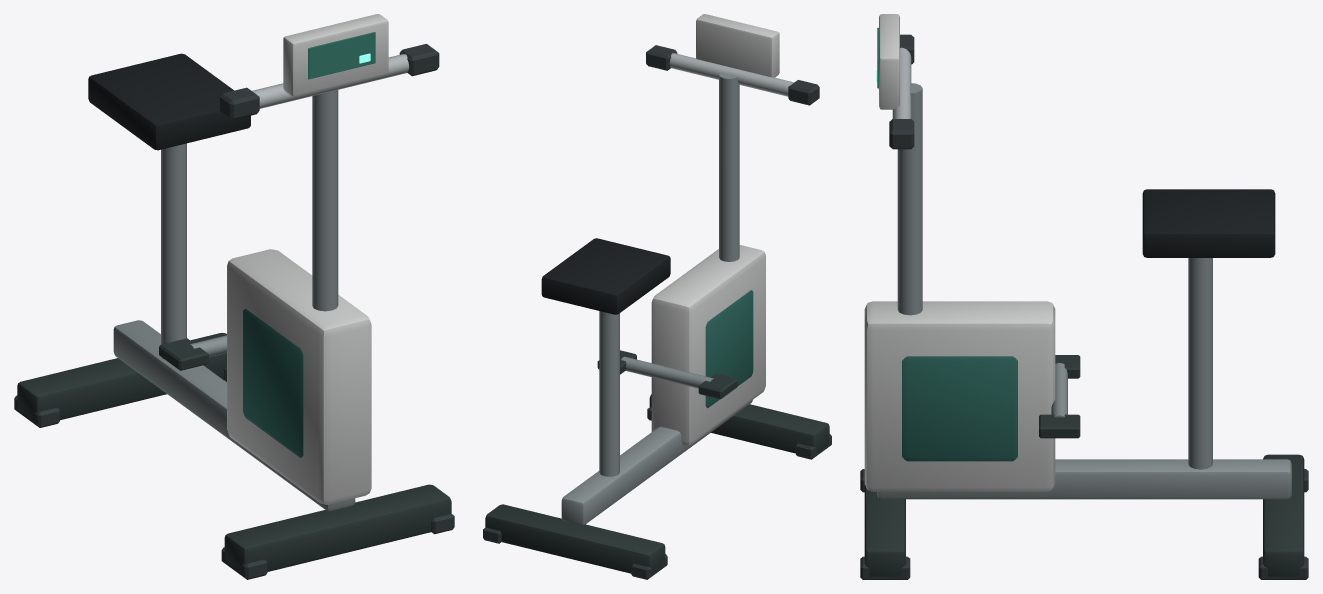
Rendered from exercise-bike.glb.
3 views of the same model, side by side, from view 1: azimuth 30°, elevation 25°; view 2: azimuth 150°, elevation 25°; view 3: azimuth 270°, elevation 25° (orthographic). The views are drawn at different scales.
Parts seen in each view (by area): view 1: exercise-bike; view 2: exercise-bike; view 3: exercise-bike.
Boxes of the visible parts, left/top/right/bottom form: exercise-bike: left=14, top=14, right=454, bottom=579; exercise-bike: left=483, top=14, right=831, bottom=579; exercise-bike: left=860, top=14, right=1308, bottom=579.
Size of the model in its own units: 0.56 by 1.32 by 1.08.
